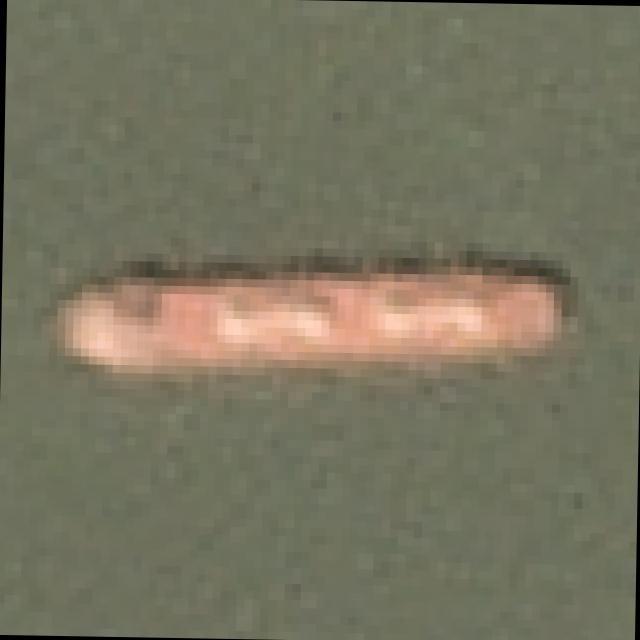ship: (32, 173, 622, 474)
